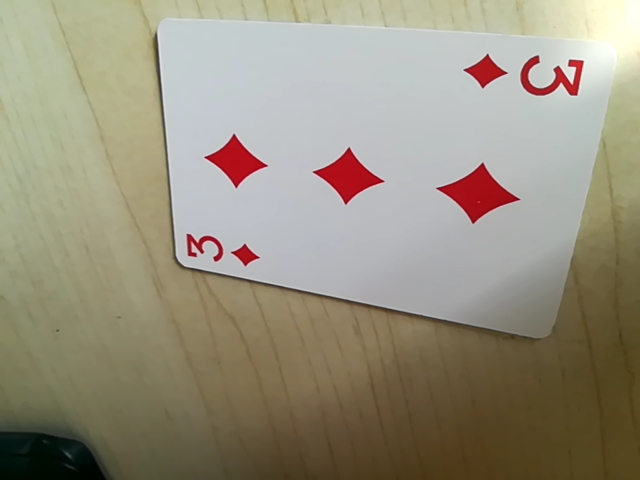fk 3: (465, 49, 589, 102), (179, 228, 265, 272)
